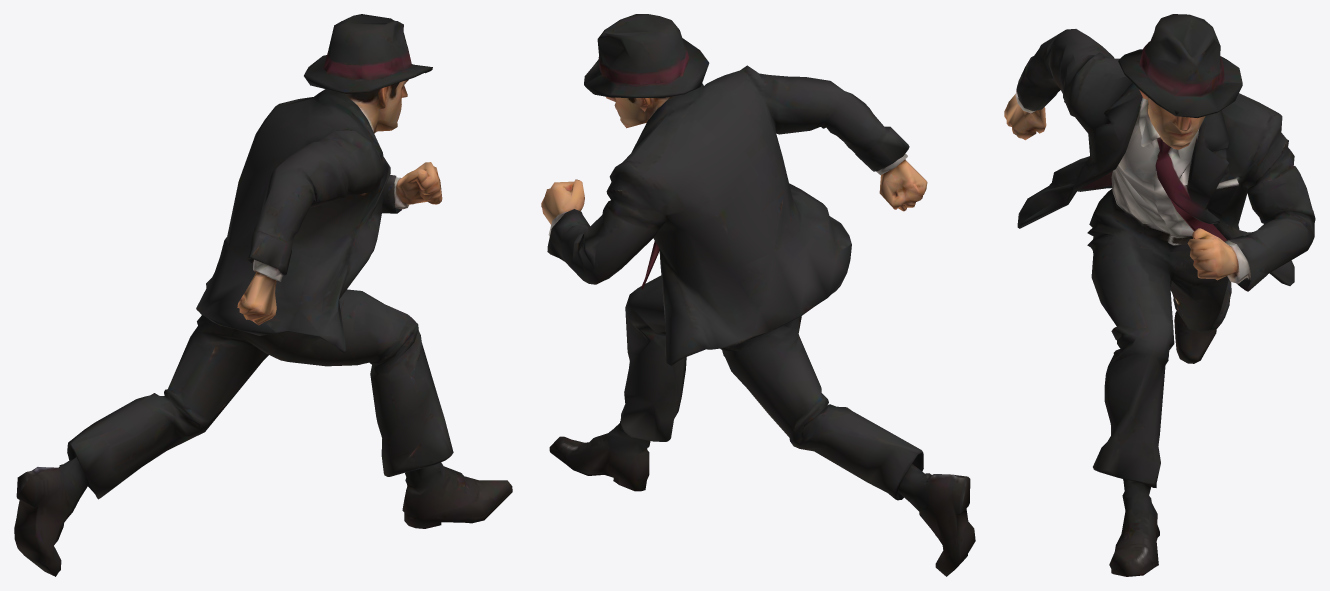
File: fedora-pursuer.glb
The picture shows the model from 3 angles, left to right: view 1: azimuth 30°, elevation 25°; view 2: azimuth 150°, elevation 25°; view 3: azimuth 270°, elevation 25°; orthographic projection. The views are drawn at different scales.
Visible parts, largest first — view 1: tripo_node_0f4e12e2-c1b3-48fd-b237-9d18b6dce64e; view 2: tripo_node_0f4e12e2-c1b3-48fd-b237-9d18b6dce64e; view 3: tripo_node_0f4e12e2-c1b3-48fd-b237-9d18b6dce64e.
Part boxes in pixels (x1,y1,x2,y2): tripo_node_0f4e12e2-c1b3-48fd-b237-9d18b6dce64e: [14, 14, 512, 576]; tripo_node_0f4e12e2-c1b3-48fd-b237-9d18b6dce64e: [541, 14, 975, 576]; tripo_node_0f4e12e2-c1b3-48fd-b237-9d18b6dce64e: [1004, 14, 1315, 576].
Size of the model in its own units: 0.9609 by 0.998 by 0.5519.
Materials: 1 (1 with a texture image).
